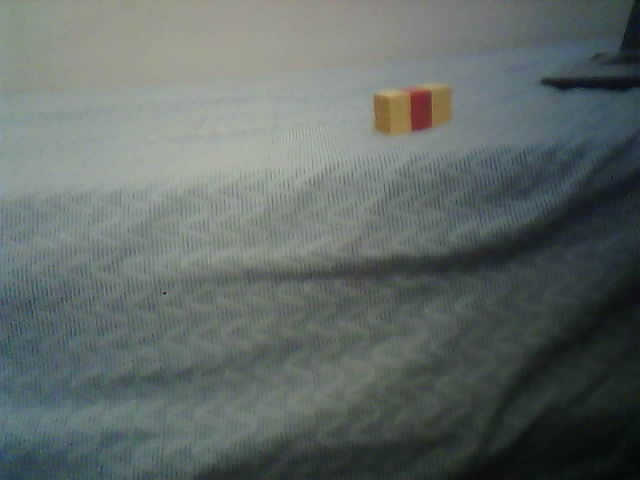lego: (372, 82, 453, 136)
